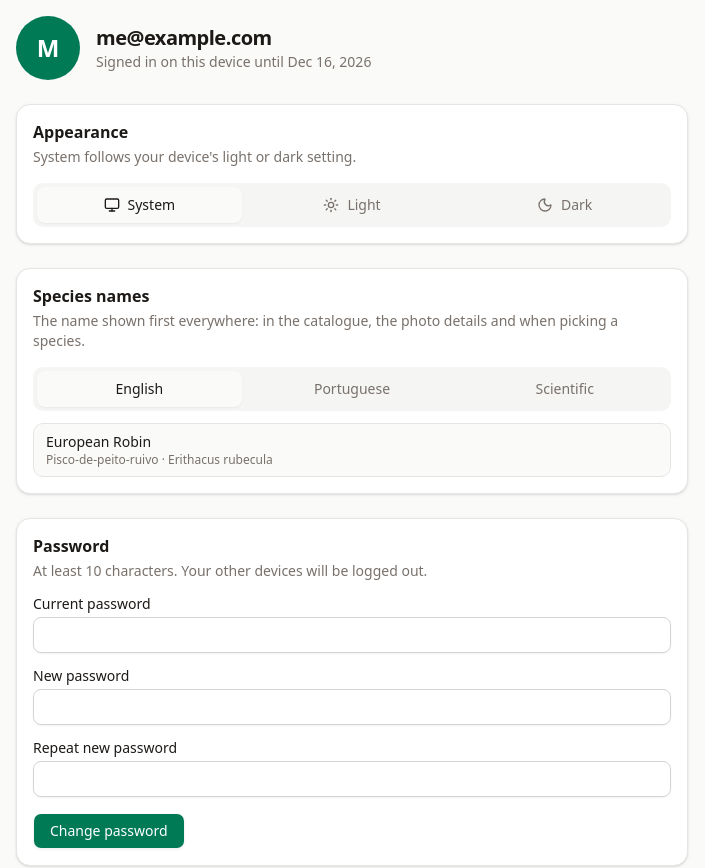
it: Profile password › changes the password and clears the form
Type "old password!" into the password field labelled "Current password".
click(352, 635); type("old password!")  # box [33, 617, 671, 653]
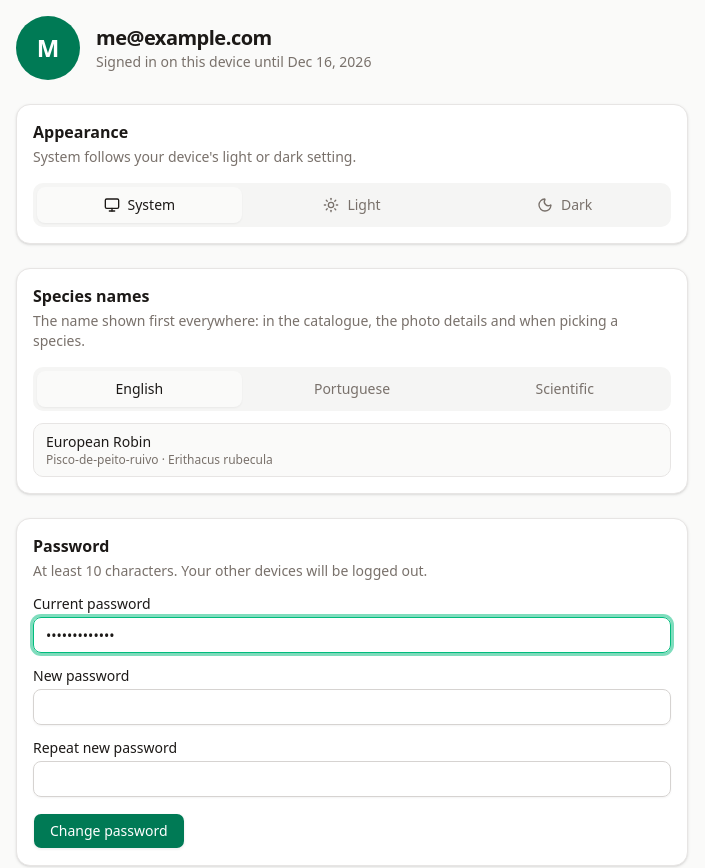
Type "a new password long enough" into the password field labelled "New password".
click(352, 707); type("a new password long enough")  # box [33, 689, 671, 725]
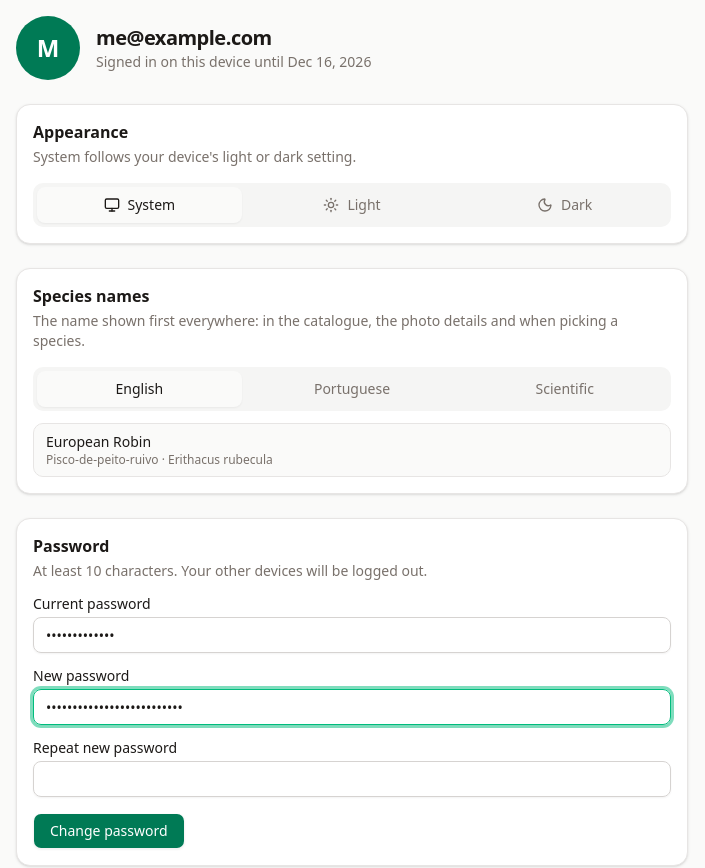
Type "a new password long enough" into the password field labelled "Repeat new password".
click(352, 779); type("a new password long enough")  # box [33, 761, 671, 797]
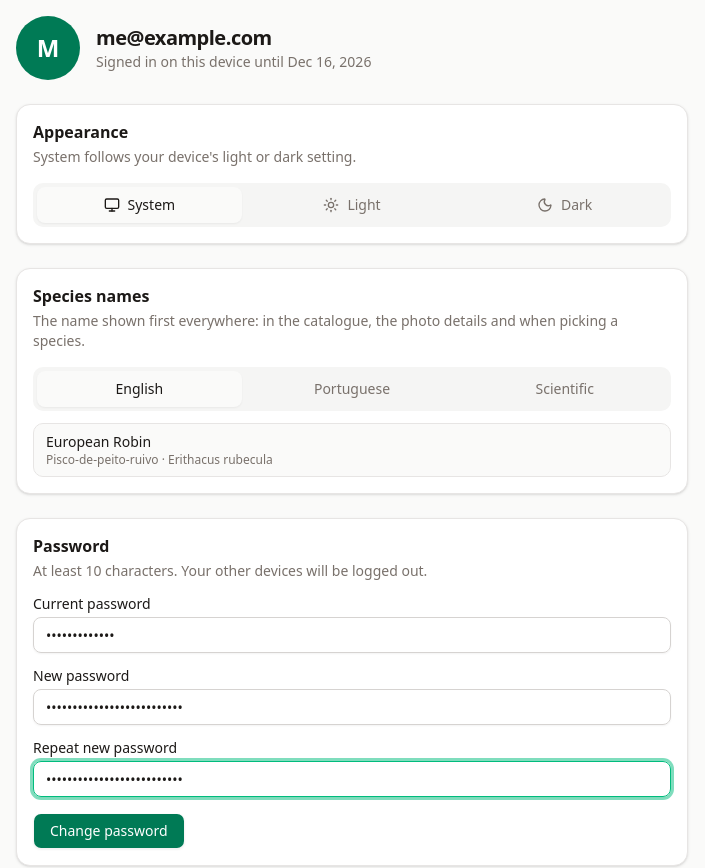
Click the button "Change password".
click(109, 831)  # box [33, 813, 185, 849]
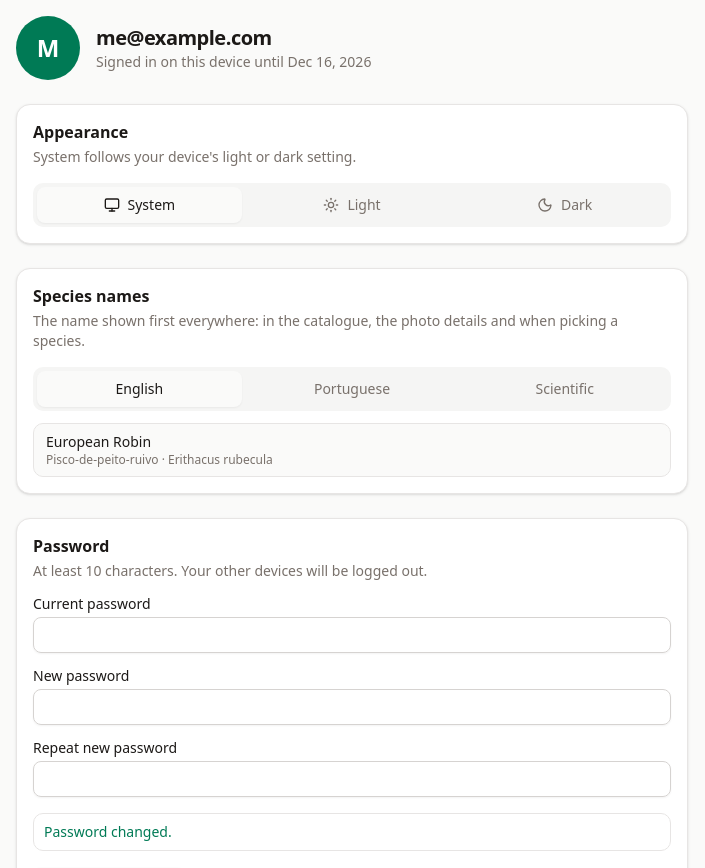
Expected: the text "Password changed." is shown, [44, 822, 172, 841]
Expected: the password field labelled "Current password" is empty, [33, 617, 671, 653]
Expected: the password field labelled "New password" is empty, [33, 689, 671, 725]
